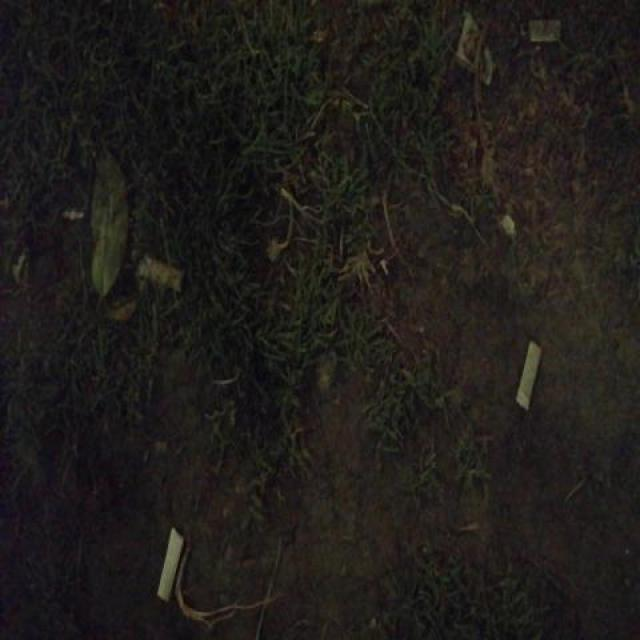non-organic waste: (153, 522, 190, 606), (133, 250, 187, 295), (512, 337, 544, 412)
